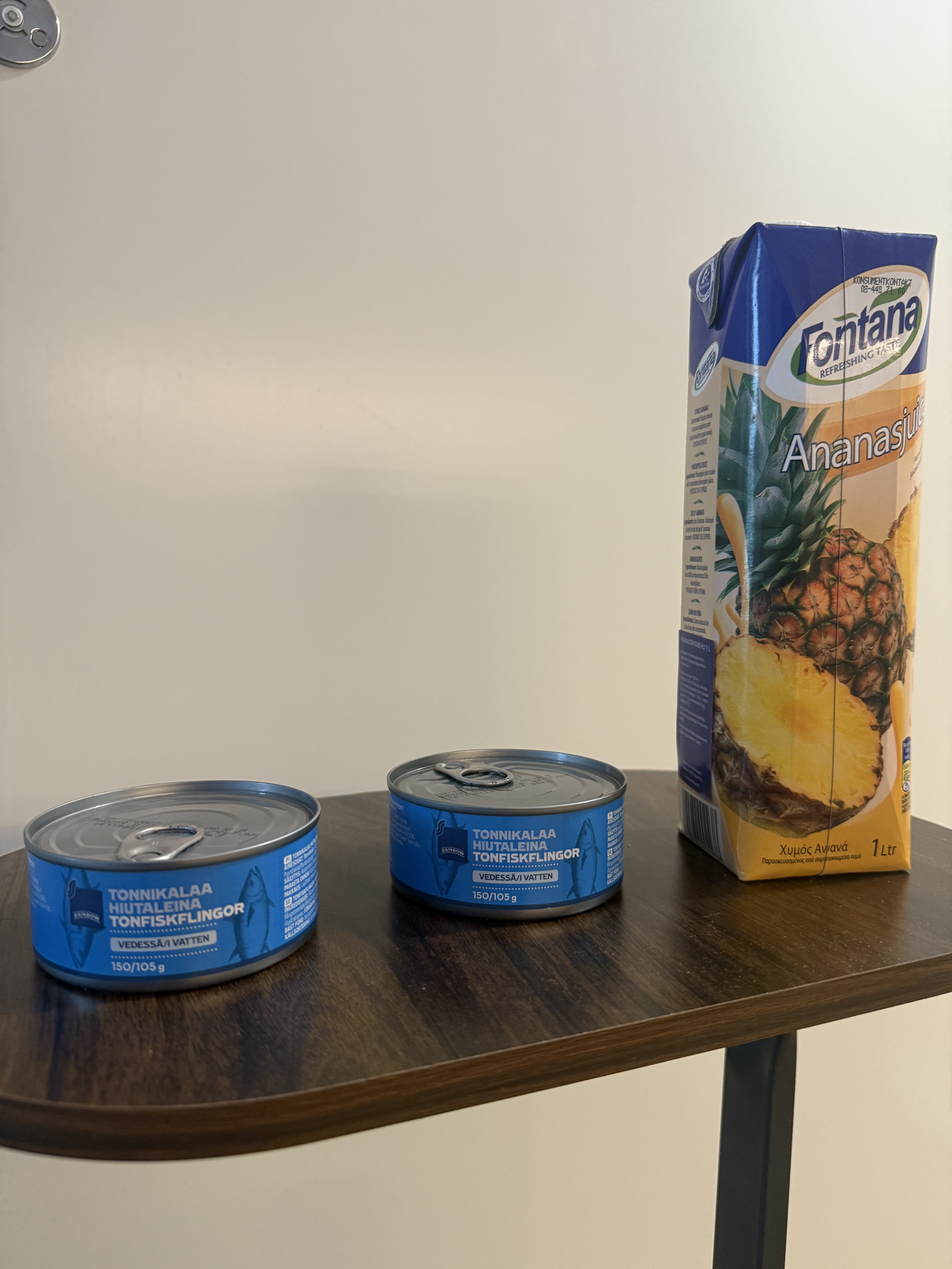Dryckeskartong: (678, 237, 920, 882)
Konservburk: (13, 793, 331, 978), (383, 750, 636, 921)
